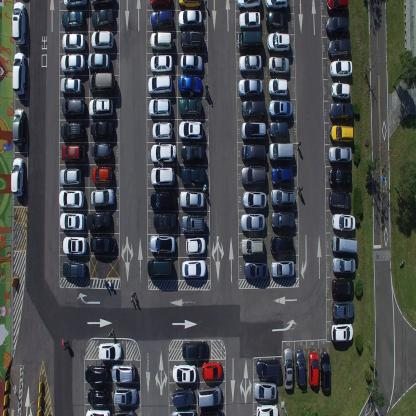car: (11, 0, 26, 46), (12, 51, 26, 96), (88, 72, 115, 95), (88, 96, 113, 120), (197, 385, 223, 408), (149, 189, 176, 211), (90, 28, 114, 52), (178, 118, 203, 141), (147, 256, 172, 279), (240, 118, 266, 140), (240, 140, 266, 162), (240, 163, 266, 185), (181, 258, 207, 280), (150, 234, 176, 256), (256, 356, 282, 378), (58, 187, 84, 209), (330, 234, 358, 254), (10, 157, 24, 197), (177, 74, 202, 96), (172, 362, 197, 384), (111, 362, 136, 384), (149, 30, 174, 52), (60, 52, 85, 74), (182, 339, 208, 360), (236, 30, 262, 51), (328, 100, 354, 121), (268, 141, 294, 162), (150, 142, 176, 163), (147, 74, 173, 95), (86, 210, 112, 231), (12, 107, 25, 148), (180, 142, 204, 164), (254, 378, 278, 400), (180, 30, 204, 52), (325, 14, 349, 36), (330, 320, 354, 342), (84, 362, 108, 384), (60, 120, 84, 142), (181, 213, 206, 234), (329, 121, 354, 142), (113, 384, 138, 405), (62, 235, 87, 256), (179, 189, 205, 209), (180, 165, 206, 185), (59, 210, 85, 230), (90, 234, 116, 254), (319, 350, 331, 393), (328, 187, 351, 209), (329, 164, 352, 186), (331, 276, 354, 298), (148, 96, 171, 118), (91, 7, 114, 29), (61, 96, 84, 118), (241, 97, 265, 118), (241, 210, 265, 231), (98, 341, 122, 362), (238, 76, 262, 97), (327, 37, 351, 58), (271, 258, 295, 279), (270, 188, 295, 208), (177, 9, 202, 29), (150, 166, 175, 186), (90, 187, 115, 207), (62, 258, 87, 278), (283, 346, 294, 390), (332, 298, 354, 320), (178, 96, 201, 117), (267, 33, 290, 54), (171, 387, 194, 408), (238, 52, 262, 72), (242, 189, 266, 209), (328, 143, 352, 163), (270, 234, 294, 254), (241, 236, 265, 256), (244, 260, 268, 280), (180, 53, 204, 73), (149, 54, 173, 74), (61, 10, 85, 30), (89, 121, 114, 140), (329, 58, 352, 78), (332, 210, 355, 230), (271, 210, 294, 230), (87, 386, 110, 406), (62, 32, 85, 52), (87, 52, 110, 72), (90, 165, 113, 185), (59, 166, 82, 186), (295, 348, 307, 386), (153, 212, 177, 231), (185, 235, 206, 256), (202, 360, 223, 381), (268, 56, 290, 76), (150, 9, 172, 29), (271, 166, 294, 185), (90, 142, 113, 161), (332, 255, 356, 273), (268, 100, 292, 118), (61, 144, 85, 162), (308, 349, 319, 388), (268, 119, 288, 140), (151, 121, 173, 140), (60, 76, 82, 95), (265, 13, 288, 31), (330, 78, 350, 98), (268, 77, 288, 97), (238, 11, 260, 29), (325, 0, 349, 13), (257, 402, 280, 415), (264, 0, 289, 11), (237, 0, 261, 10), (62, 0, 87, 9), (90, 0, 117, 8), (199, 408, 225, 416), (172, 408, 197, 416), (149, 0, 171, 9), (178, 0, 202, 8), (85, 410, 111, 416), (114, 409, 138, 415)
